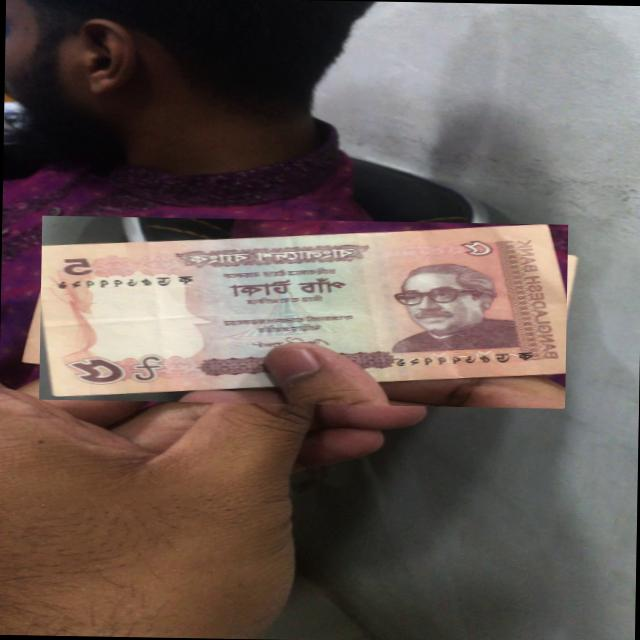Taka: (39, 215, 568, 408)
